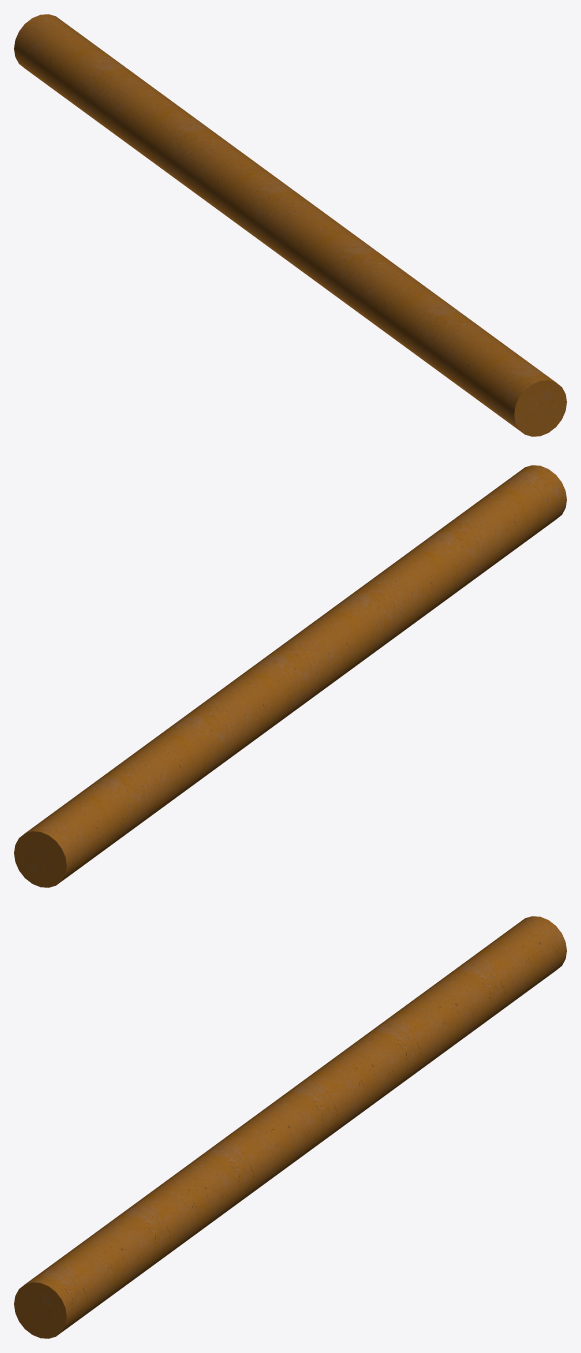
Rendered from SM_Tileable_Cable.glb.
The picture shows the model from 3 angles, top to bottom: view 1: azimuth 30°, elevation 25°; view 2: azimuth 150°, elevation 25°; view 3: azimuth 330°, elevation 25°; orthographic projection.
Visible parts, largest first — view 1: SM_Tileable_Cable; view 2: SM_Tileable_Cable; view 3: SM_Tileable_Cable.
Boxes of the visible parts, x1,y1,x2,y2 form: SM_Tileable_Cable: (14, 14, 566, 436); SM_Tileable_Cable: (14, 465, 566, 887); SM_Tileable_Cable: (14, 916, 566, 1338).
Size of the model in its own units: 0.061 by 0.061 by 1.
1 material, 1 textured.
